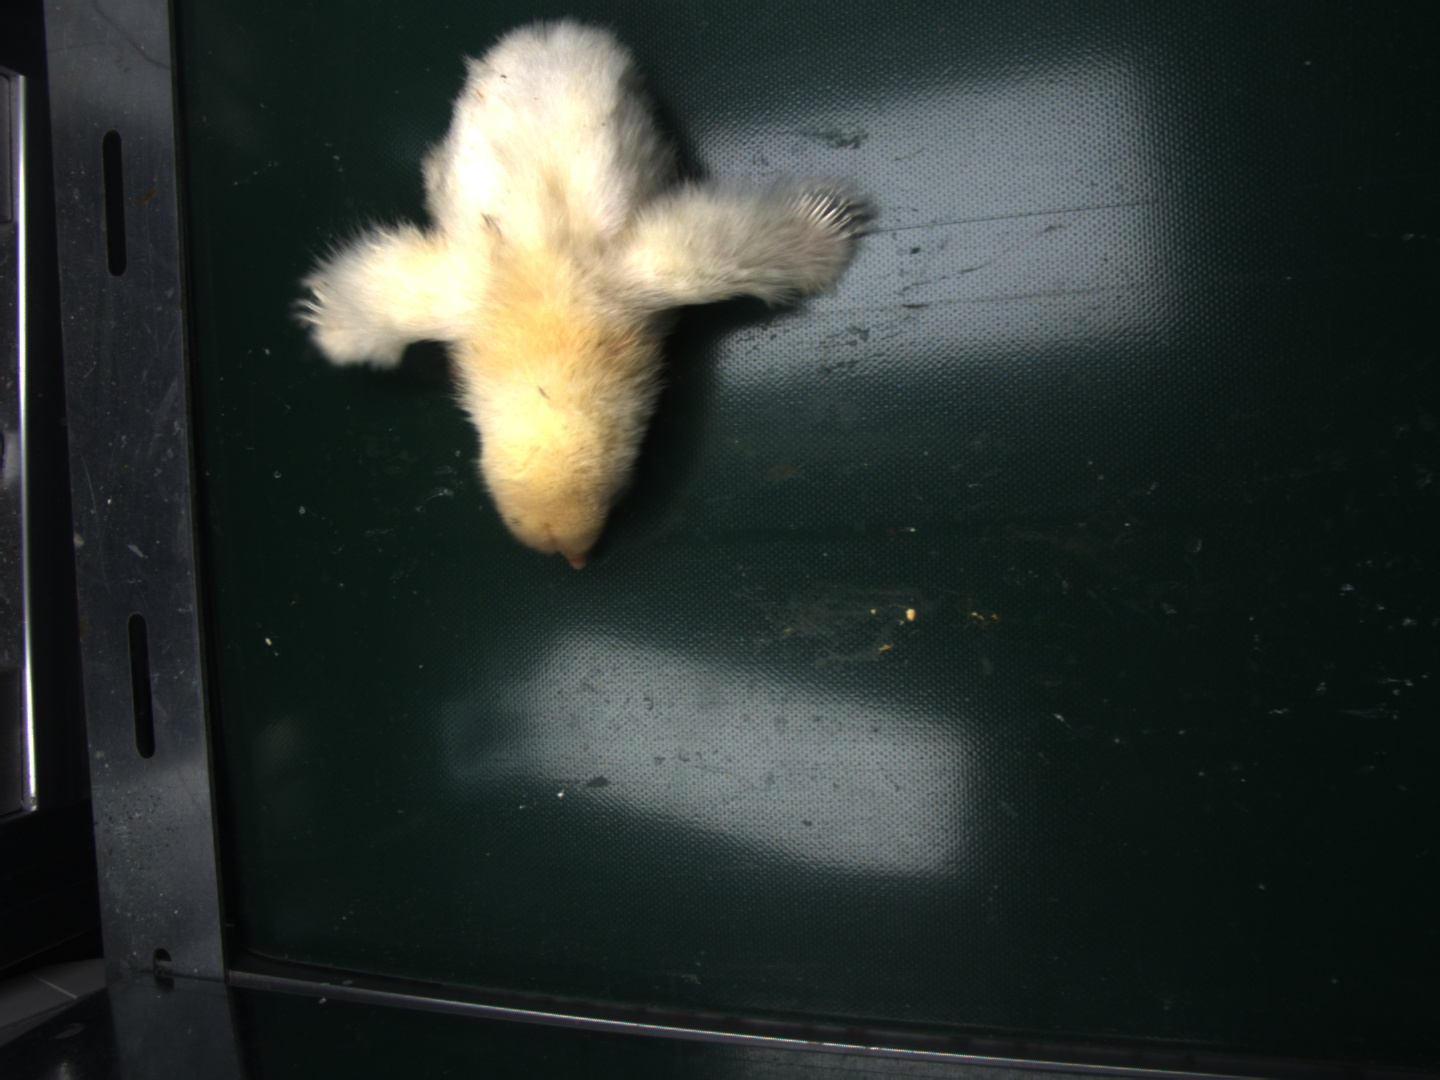male: (795, 188, 854, 239)
